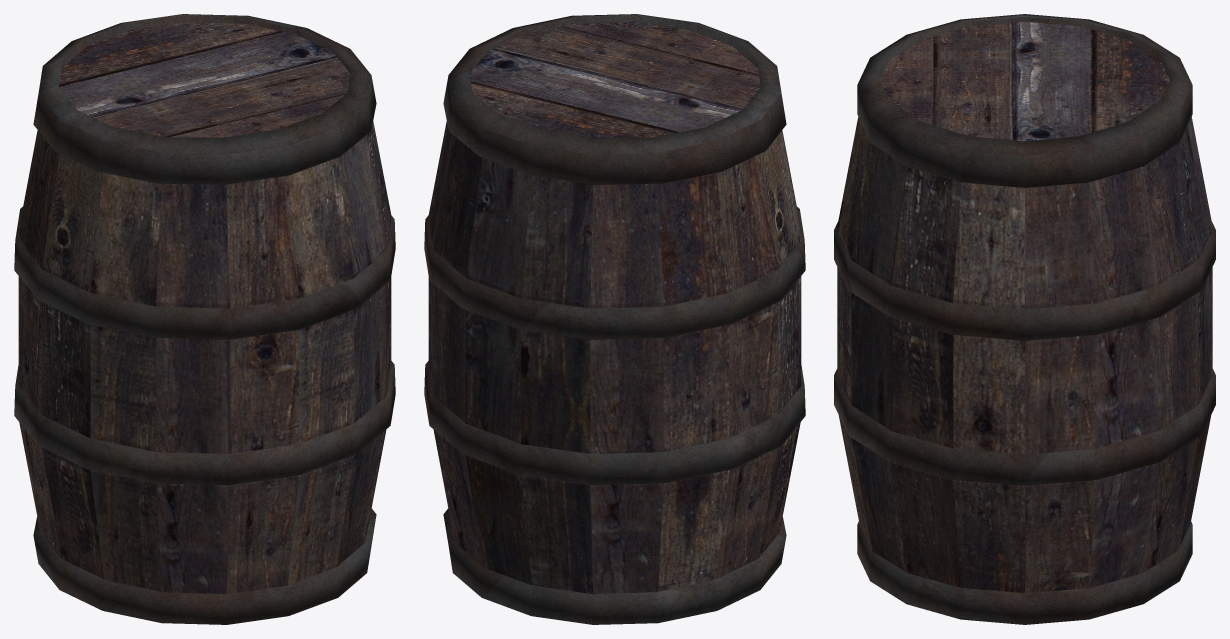
Rendered from barrel_closed.fbx.
The picture shows the model from 3 angles, left to right: view 1: azimuth 30°, elevation 25°; view 2: azimuth 150°, elevation 25°; view 3: azimuth 270°, elevation 25°; orthographic projection.
Visible parts, largest first — view 1: Barrel1_1; view 2: Barrel1_1; view 3: Barrel1_1.
Boxes of the visible parts, x1,y1,x2,y2 form: Barrel1_1: [14, 14, 395, 624]; Barrel1_1: [424, 14, 805, 624]; Barrel1_1: [834, 14, 1215, 624].
Size of the model in its own units: 0.5987 by 0.8215 by 0.5948.
